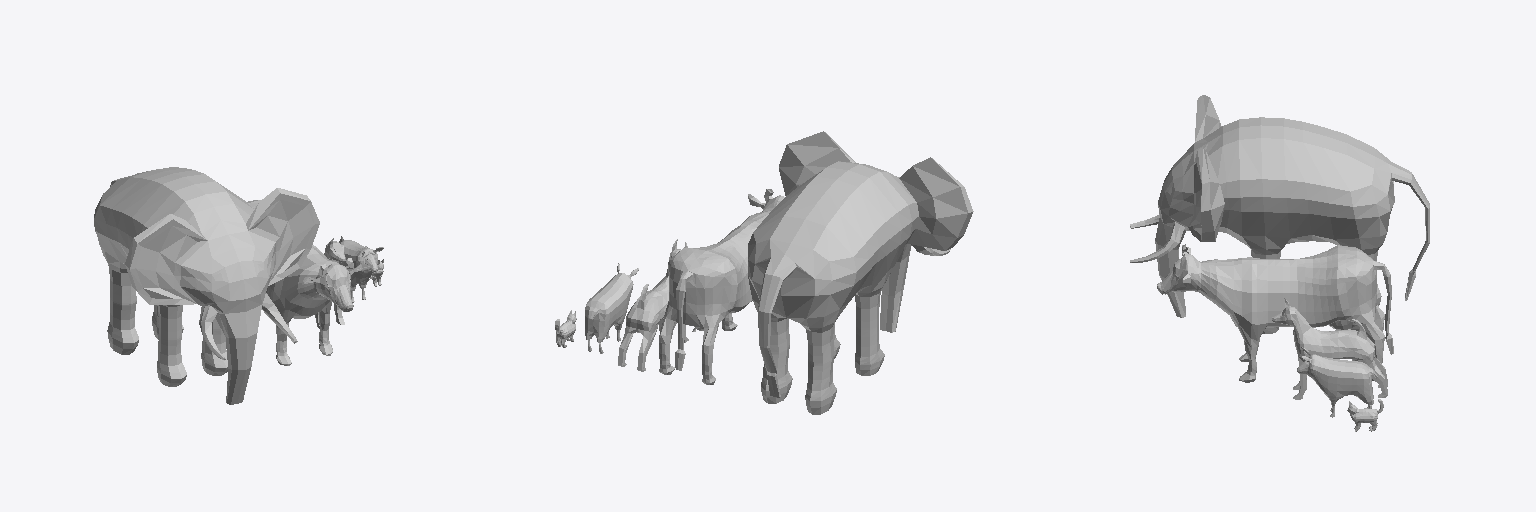
The model's file is low poly animals.obj.
3 renders of one model, left to right at view 1: azimuth 30°, elevation 25°; view 2: azimuth 150°, elevation 25°; view 3: azimuth 270°, elevation 25°, orthographic.
Visible parts, largest first — view 1: Cube, cow, Cube.001, dog; view 2: Cube, cow, dog, Cube.001; view 3: Cube, cow, dog, Cube.001, Cube.002.
Part boxes in pixels (bbox=[...]): Cube: bbox=[94, 167, 319, 404]; cow: bbox=[247, 200, 372, 365]; Cube.001: bbox=[339, 240, 383, 302]; dog: bbox=[312, 236, 345, 328]; Cube: bbox=[748, 131, 973, 414]; cow: bbox=[659, 189, 784, 384]; dog: bbox=[618, 239, 688, 371]; Cube.001: bbox=[585, 263, 638, 353]; Cube: bbox=[1130, 95, 1429, 333]; cow: bbox=[1157, 244, 1393, 382]; dog: bbox=[1272, 298, 1387, 399]; Cube.001: bbox=[1297, 347, 1377, 417]; Cube.002: bbox=[1347, 399, 1383, 431].
Bounding box in the file's own units: 5.72 × 3.33 × 4.49.